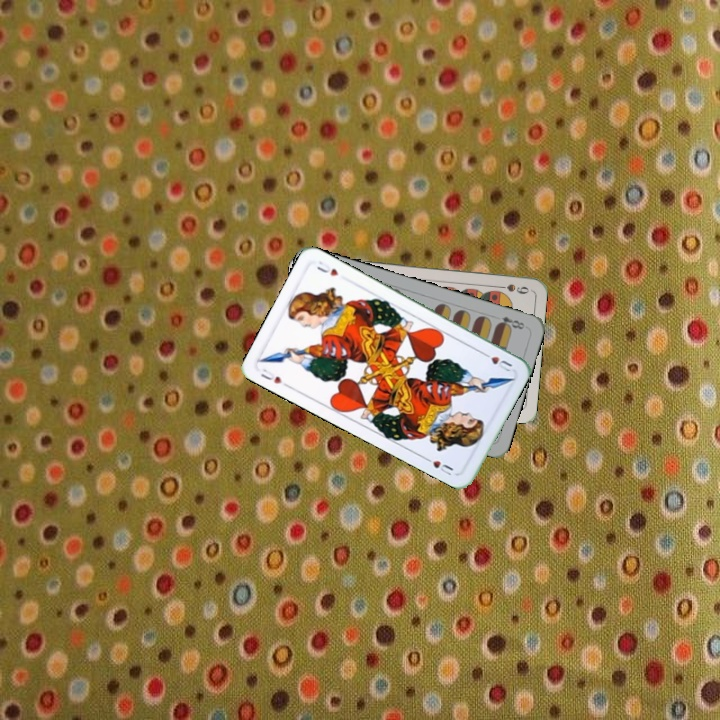E8: (493, 312, 529, 332)
HU: (478, 347, 515, 375), (256, 364, 285, 386)
S9: (491, 280, 531, 297)
